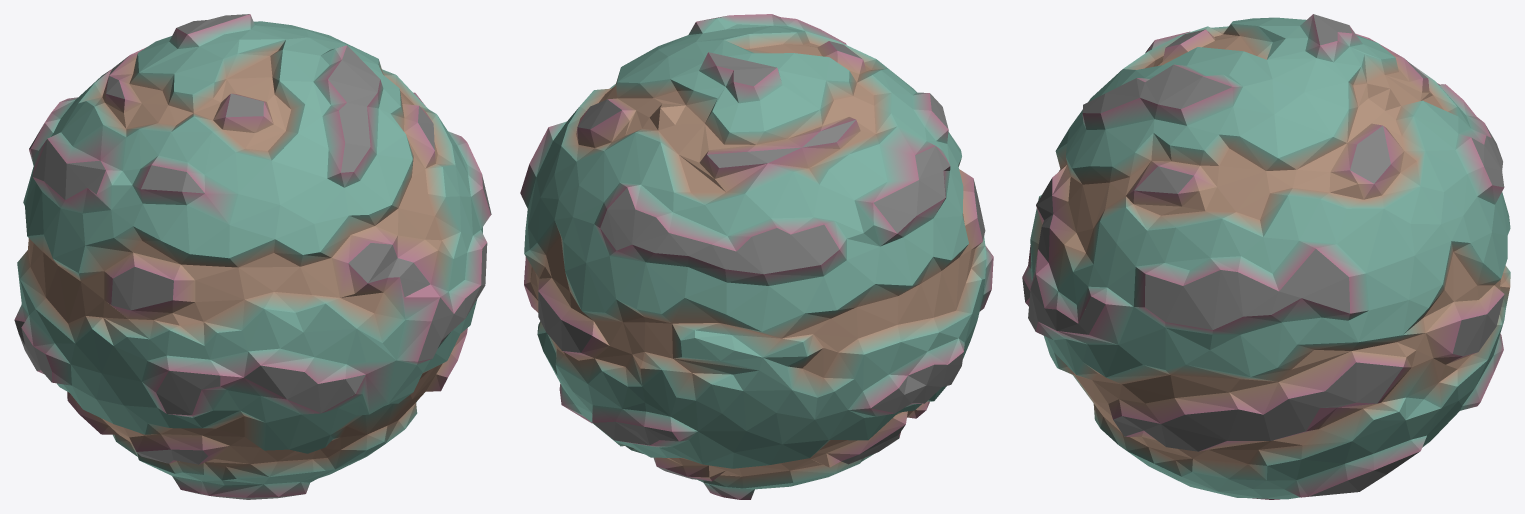
The picture shows the model from 3 angles, left to right: view 1: azimuth 30°, elevation 25°; view 2: azimuth 150°, elevation 25°; view 3: azimuth 270°, elevation 25°; orthographic projection. The views are drawn at different scales.
Parts seen in each view (by area): view 1: 1, 3, 2; view 2: 1, 3, 2; view 3: 1, 3, 2.
Boxes of the visible parts, bbox=[...] form: 1: bbox=[14, 14, 490, 497]; 3: bbox=[17, 39, 467, 480]; 2: bbox=[14, 14, 491, 499]; 1: bbox=[520, 14, 993, 499]; 3: bbox=[524, 31, 986, 488]; 2: bbox=[538, 41, 985, 481]; 1: bbox=[1022, 14, 1510, 499]; 3: bbox=[1030, 23, 1510, 499]; 2: bbox=[1022, 14, 1504, 497].
Size of the model in its own units: 5211 by 5242 by 5140.
